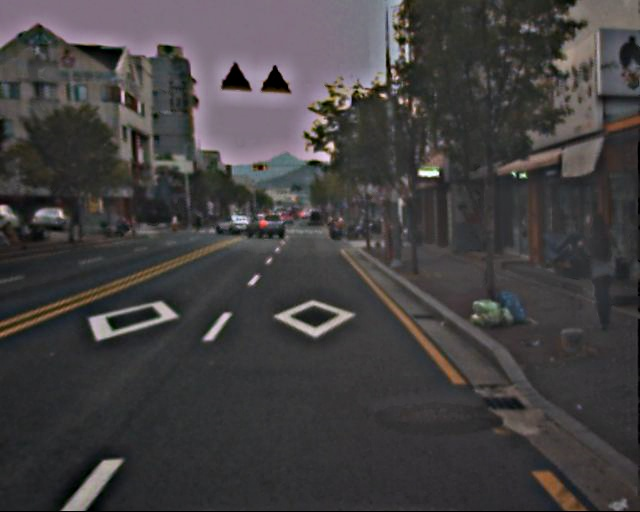person: (568, 214, 624, 328)
